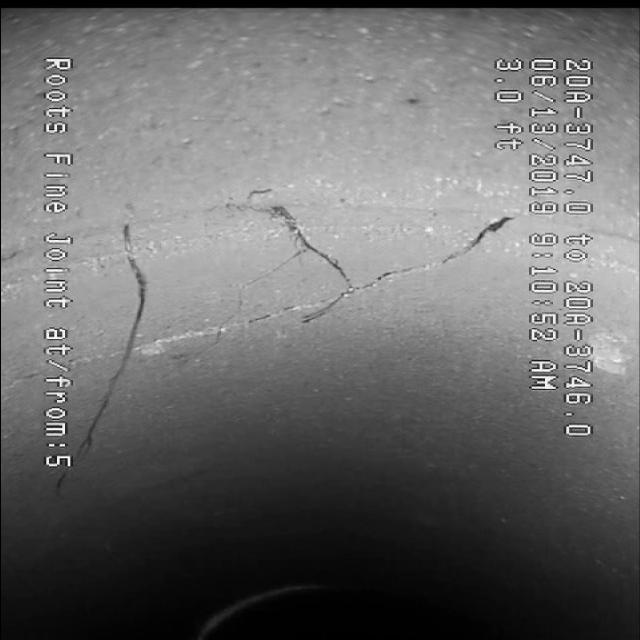Crack: (269, 218, 503, 320), (83, 262, 191, 434)
